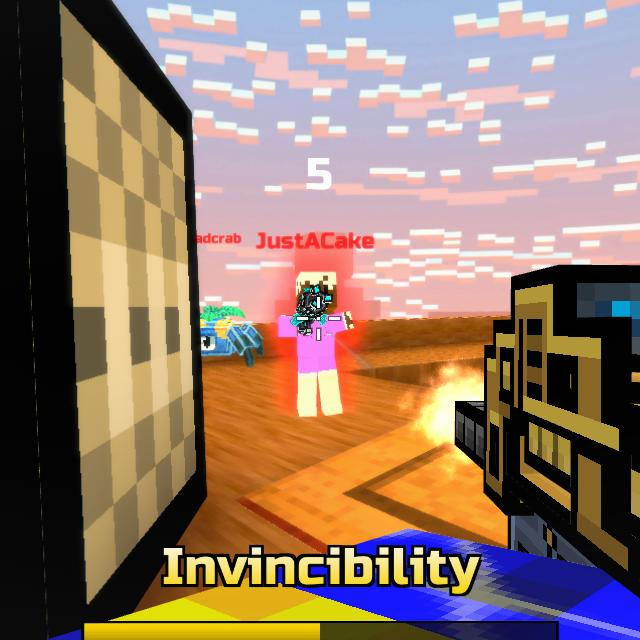Enemy: (280, 272, 357, 419)
